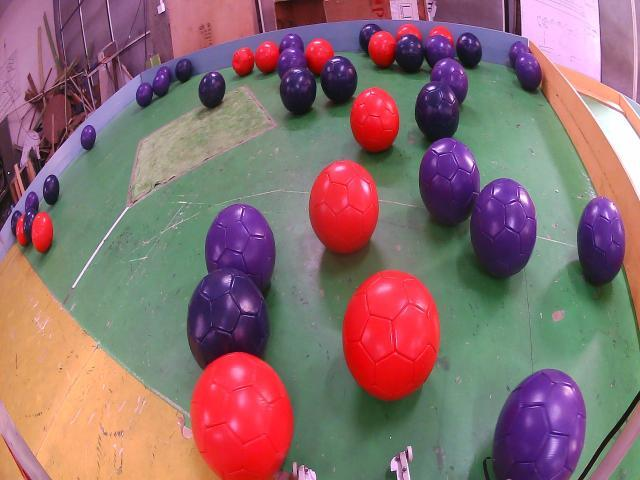jambhalya: (492, 368, 586, 480), (470, 178, 536, 277), (205, 203, 275, 292), (419, 138, 480, 225), (578, 197, 625, 285), (430, 58, 468, 103), (515, 52, 542, 91), (424, 35, 455, 68), (276, 47, 308, 78), (509, 42, 530, 68), (152, 70, 170, 97), (279, 33, 304, 52), (136, 82, 152, 107), (80, 125, 96, 150), (25, 192, 39, 213), (156, 67, 172, 82)
kaalyya: (186, 268, 270, 368), (415, 82, 460, 142), (280, 67, 316, 115), (321, 57, 358, 103), (395, 33, 424, 72), (199, 72, 225, 108), (456, 32, 482, 68), (359, 23, 381, 53), (22, 208, 38, 243), (42, 175, 60, 205), (175, 58, 192, 83), (11, 210, 21, 236)
